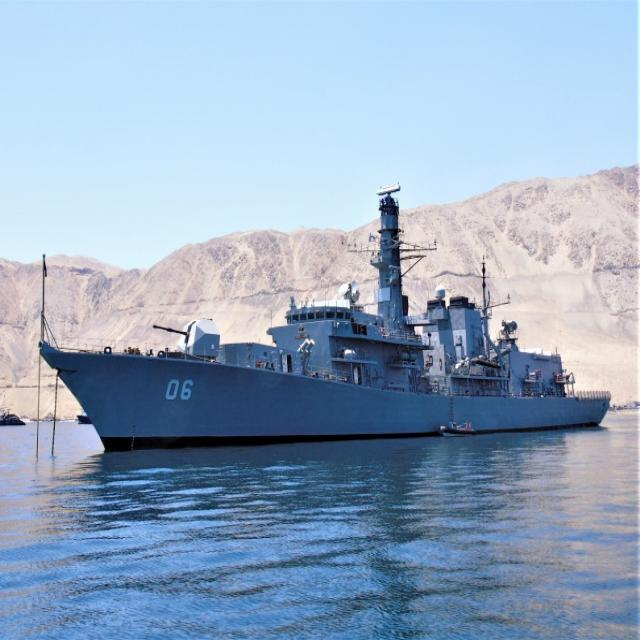Fragata: (37, 177, 615, 461)
